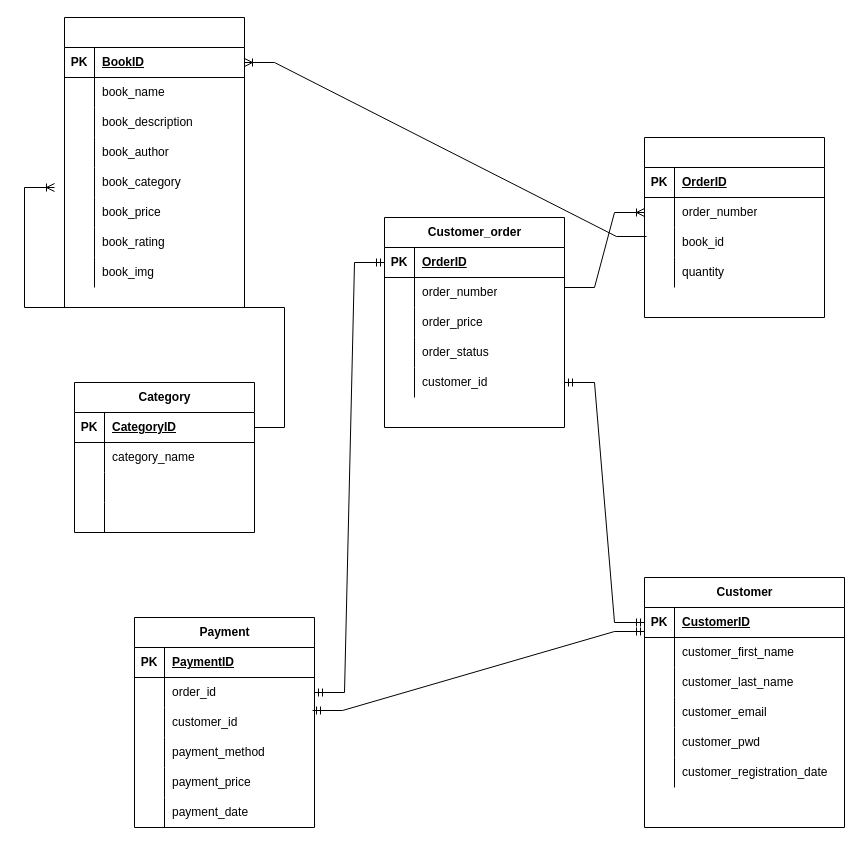
This 862x845 diagram has some shape labels left out. Here are the shapes that lost their labels. From the top down, the box of each, then its label:
(64, 16, 244, 308): Books
(644, 136, 824, 318): Order_details
